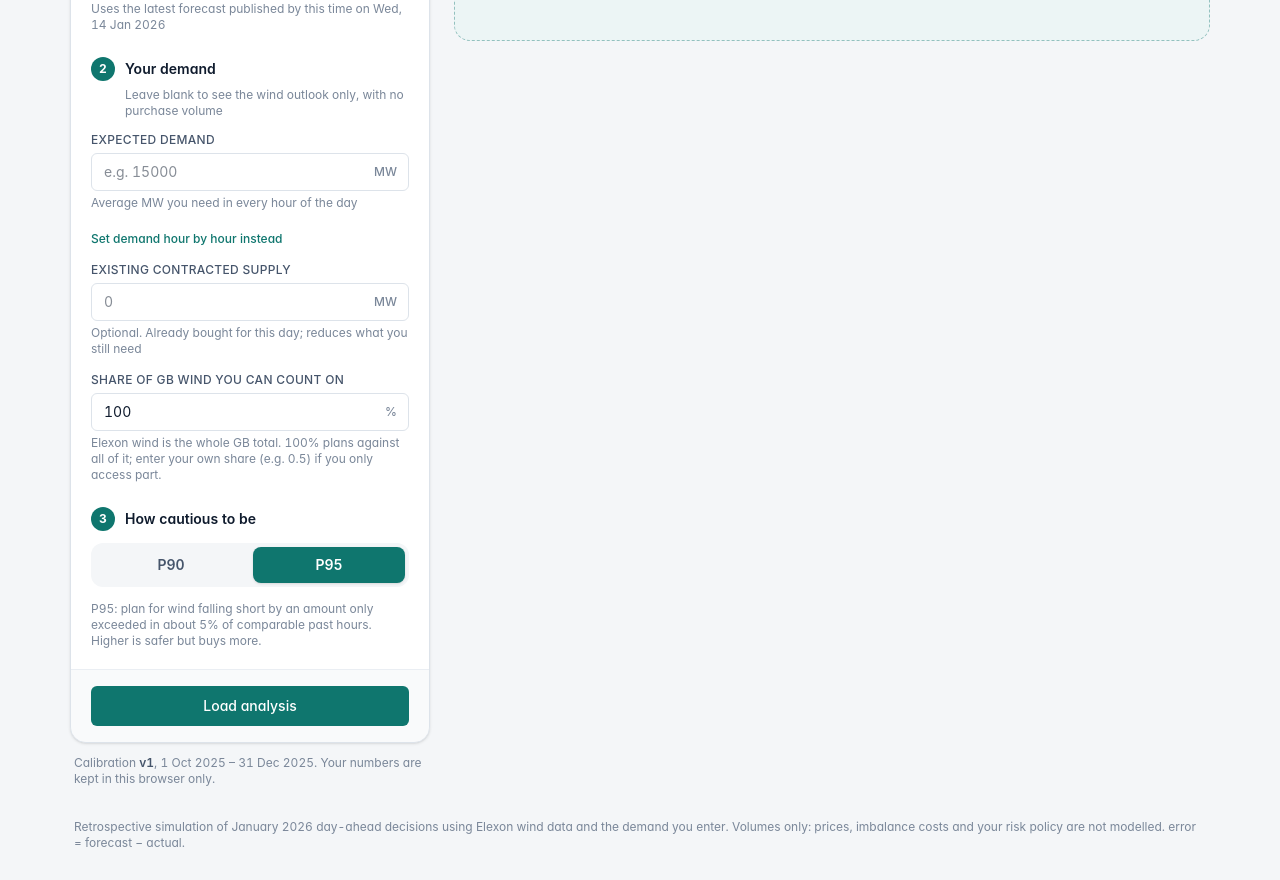
Test: Decision dashboard › shows data-quality warnings from the API
(page scrolled)
Click the button "Load analysis": (250, 706) 91,686 -> 409,726
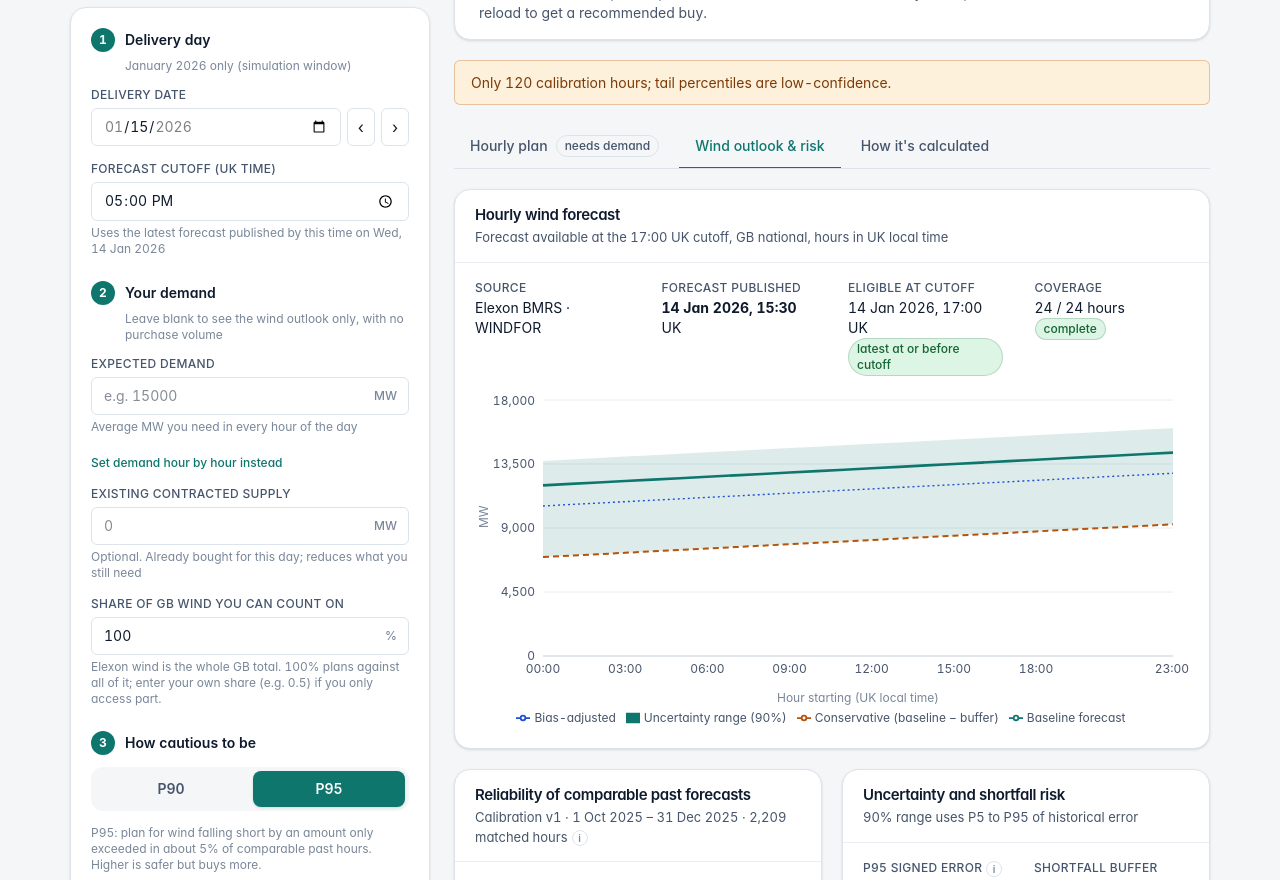
Now the text "tail percentiles are low-confidence" is shown, box 471,74 -> 891,90
